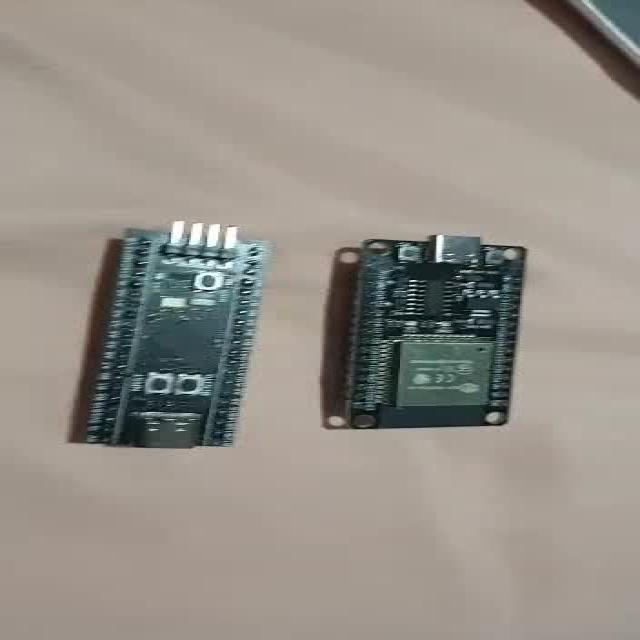ESP32: (346, 236, 526, 427)
STM32: (87, 222, 266, 448)
